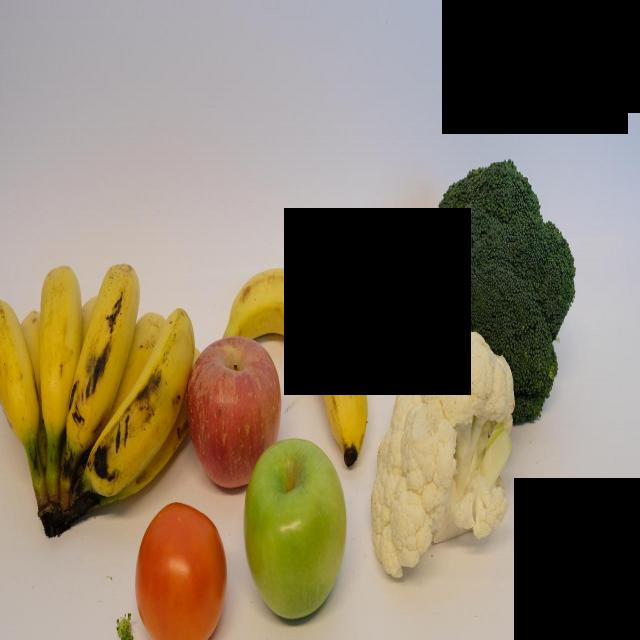apple: (243, 434, 348, 625), (188, 333, 282, 490)
banana: (219, 263, 369, 468), (90, 306, 198, 516), (70, 251, 140, 453), (39, 262, 82, 479), (0, 296, 40, 458)
broccoli: (429, 155, 576, 426)
cauliflower: (371, 324, 515, 582)
tomato: (133, 499, 227, 638)
